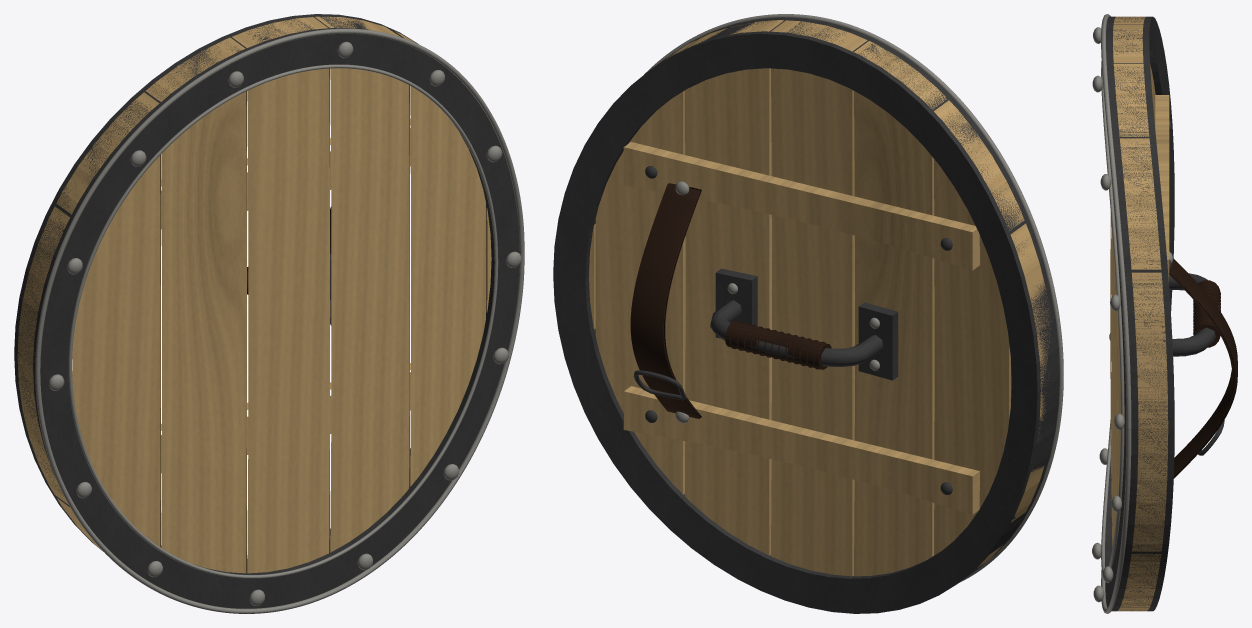
The model's file is palewood_shield.glb.
3 renders of one model, left to right at view 1: azimuth 30°, elevation 25°; view 2: azimuth 150°, elevation 25°; view 3: azimuth 270°, elevation 25°, orthographic. The views are drawn at different scales.
Visible parts, largest first — view 1: pale-pine, forged-shield-metal, worn-polished-edges; view 2: pale-pine, forged-shield-metal, rear-oiled-leather, worn-polished-edges; view 3: pale-pine, forged-shield-metal, worn-polished-edges, rear-oiled-leather.
Part boxes in pixels (x1,y1,x2,y2): pale-pine: (17, 16, 491, 573); forged-shield-metal: (14, 14, 519, 608); worn-polished-edges: (35, 28, 524, 613); pale-pine: (589, 20, 1051, 576); forged-shield-metal: (553, 17, 1059, 613); rear-oiled-leather: (630, 183, 831, 418); worn-polished-edges: (644, 14, 1063, 582); pale-pine: (1110, 16, 1169, 611); forged-shield-metal: (1105, 16, 1224, 611); worn-polished-edges: (1092, 14, 1172, 613); rear-oiled-leather: (1169, 258, 1237, 478).
Bounding box in the file's own units: 0.5855 × 0.6555 × 0.1563.
4 materials, 4 textured.
